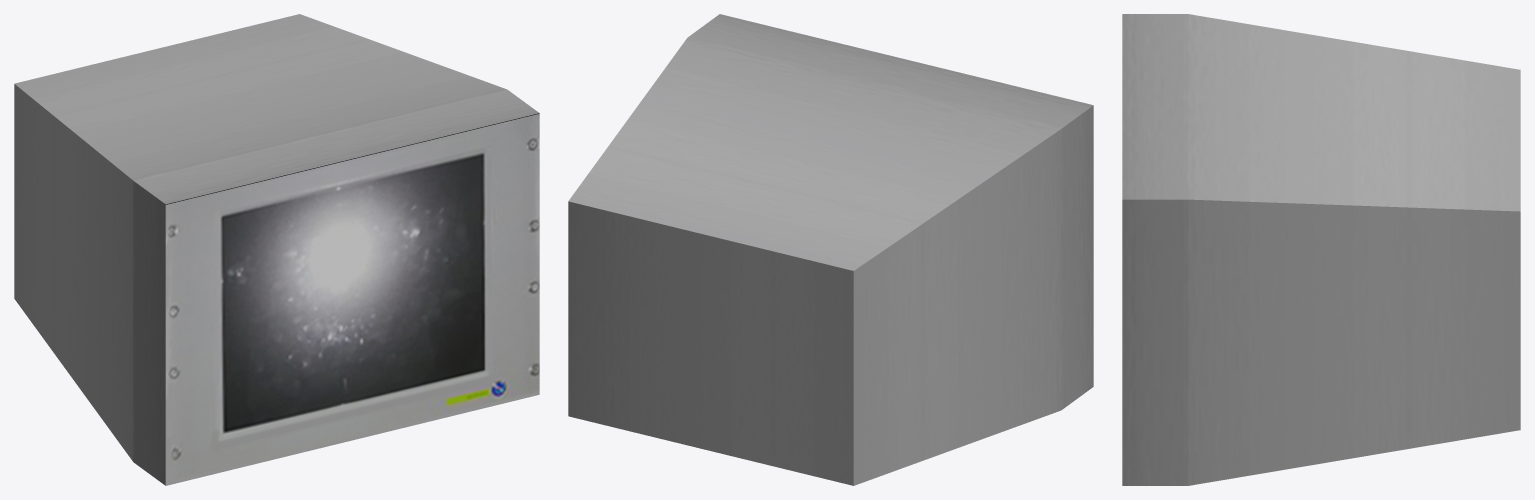
Rendered from xianshiqi.obj.
3 renders of one model, left to right at view 1: azimuth 30°, elevation 25°; view 2: azimuth 150°, elevation 25°; view 3: azimuth 270°, elevation 25°, orthographic.
Visible parts, largest first — view 1: Box001; view 2: Box001; view 3: Box001.
Part boxes in pixels (x1,y1,x2,y2): Box001: (14, 14, 539, 485); Box001: (568, 14, 1093, 485); Box001: (1122, 14, 1520, 485).
Size of the model in its own units: 25.05 by 18.02 by 22.71.
1 material, 1 textured.
